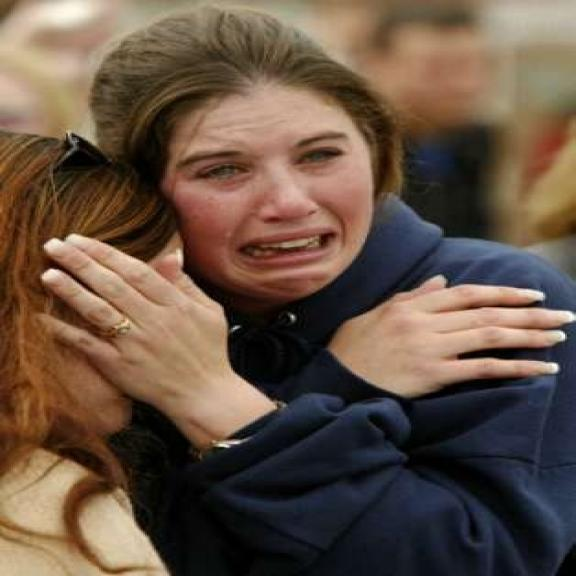face: (158, 88, 390, 300)
